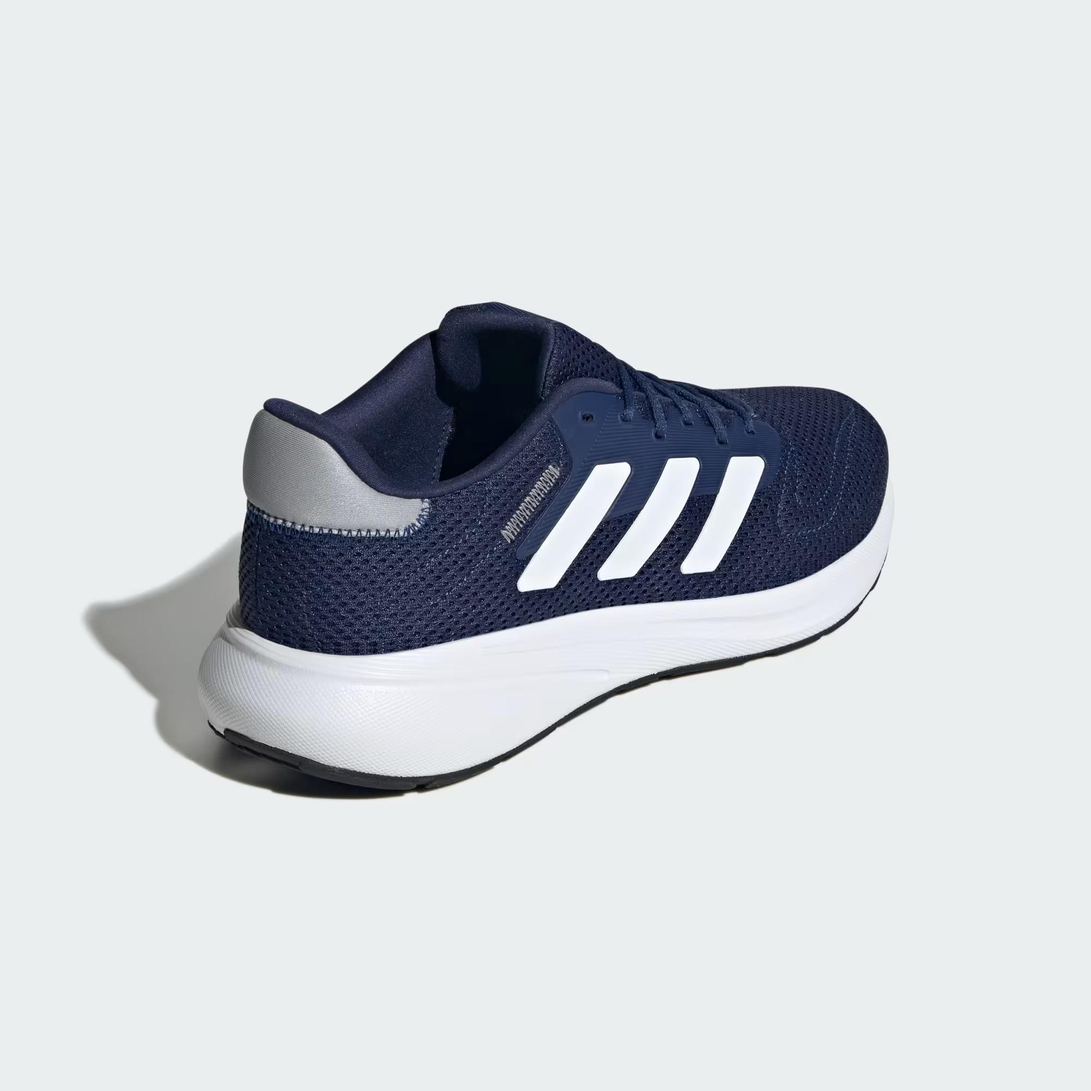marca: (491, 447, 781, 598)
shoe: (193, 296, 897, 798)
